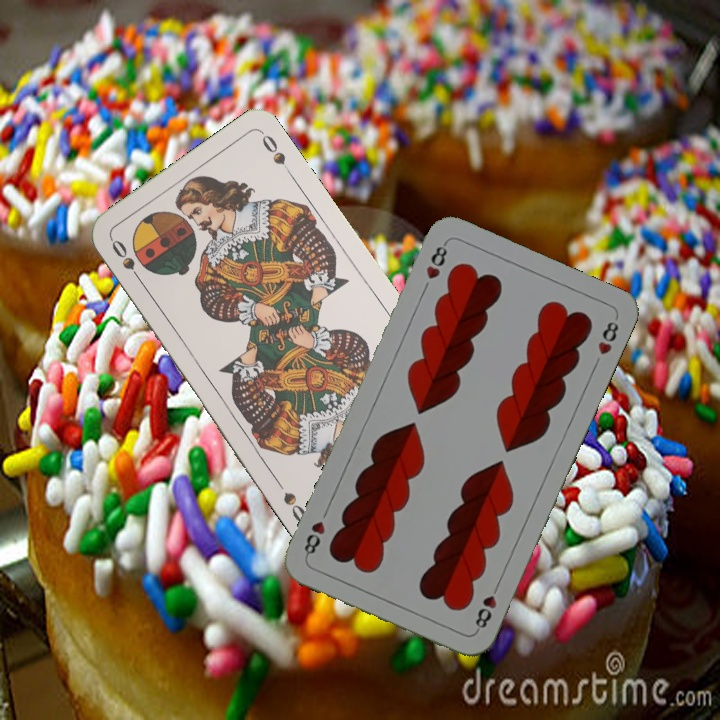H8: (471, 578, 502, 634), (422, 238, 450, 282)
SO: (107, 235, 146, 287)
